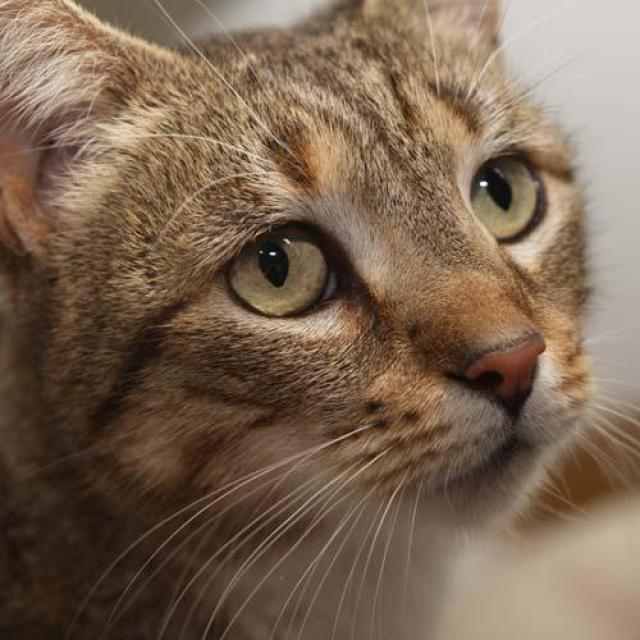cats: (0, 1, 637, 640)
